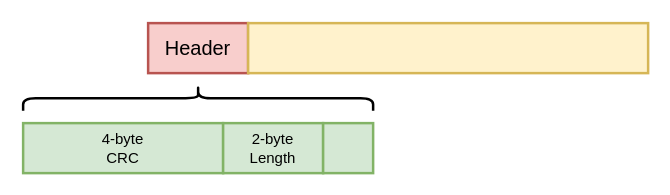
Image size: 670x195. Some labels were removed from this diagram. The centre of each missing label's shape, as x and y in pixels:
"1-byte Type" goes at pixel 347 147.
"Data" goes at pixel 447 47.
